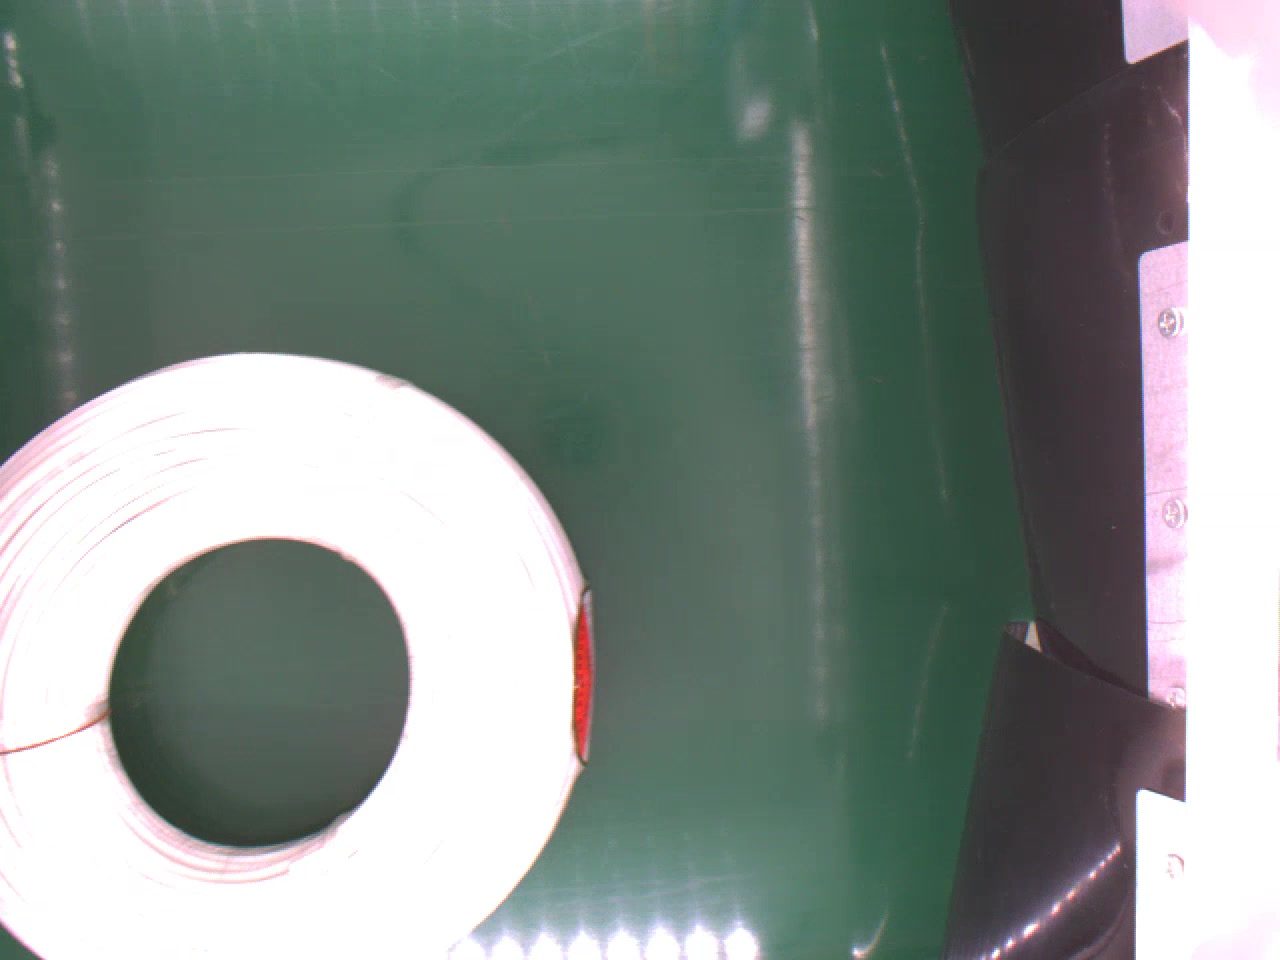white: (0, 347, 602, 960)
